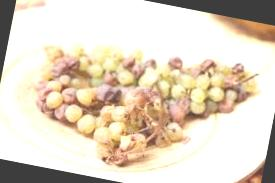Grape Rotten: (21, 23, 262, 183)
